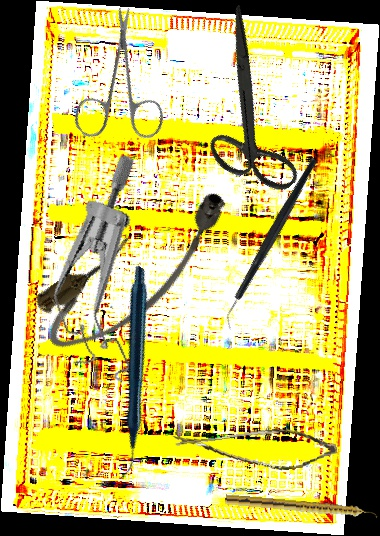Cannula: (25, 177, 253, 366)
Chopper: (179, 156, 365, 332)
Handpiece: (28, 264, 234, 478), (224, 494, 379, 521)
Iris Scissors: (147, 3, 351, 214), (36, 3, 204, 171)
Micro Scissor: (172, 414, 339, 485)
Speculum: (11, 151, 204, 399)
